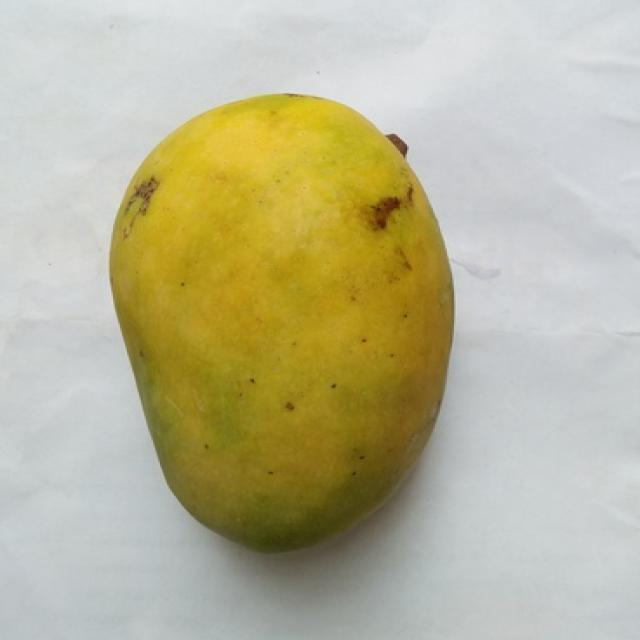Mango: (110, 94, 452, 550)
